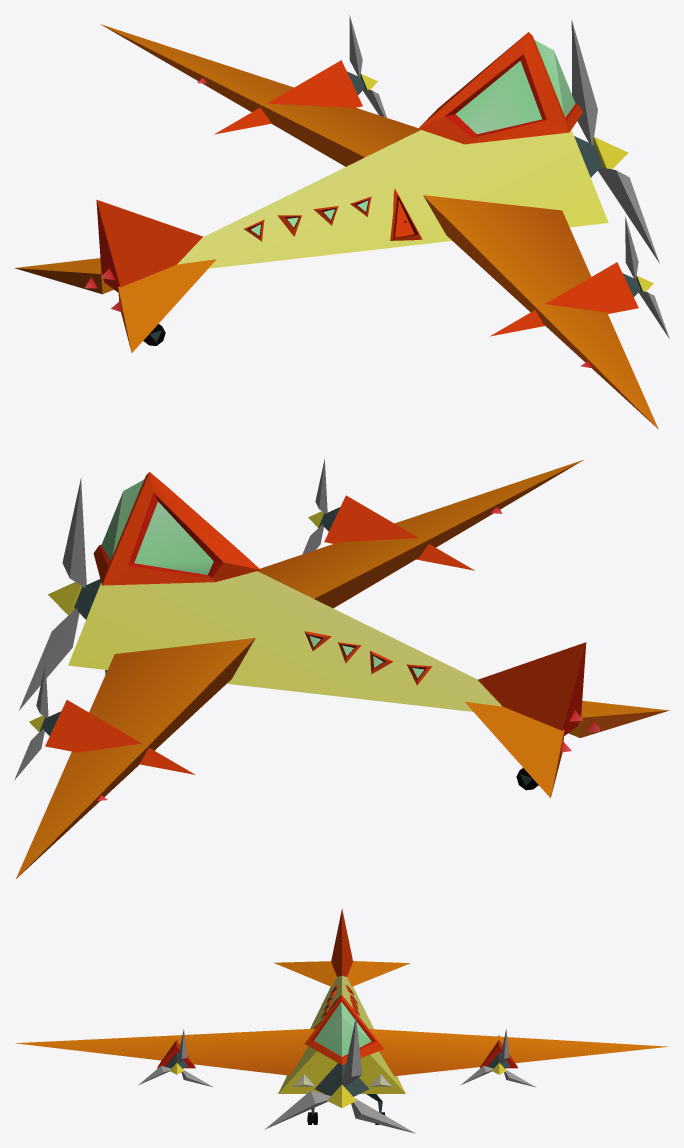
The model's file is c_airplane_aa.fbx.
3 views of the same model, one above another, from view 1: azimuth 30°, elevation 25°; view 2: azimuth 150°, elevation 25°; view 3: azimuth 270°, elevation 25° (orthographic). The views are drawn at different scales.
Parts seen in each view (by area): view 1: c_airplane_aa; view 2: c_airplane_aa; view 3: c_airplane_aa.
Boxes of the visible parts, x1,y1,x2,y2 form: c_airplane_aa: [14, 15, 669, 428]; c_airplane_aa: [14, 458, 669, 878]; c_airplane_aa: [15, 908, 668, 1133].
Bounding box in the file's own units: 33.29 × 12.57 × 58.21.
